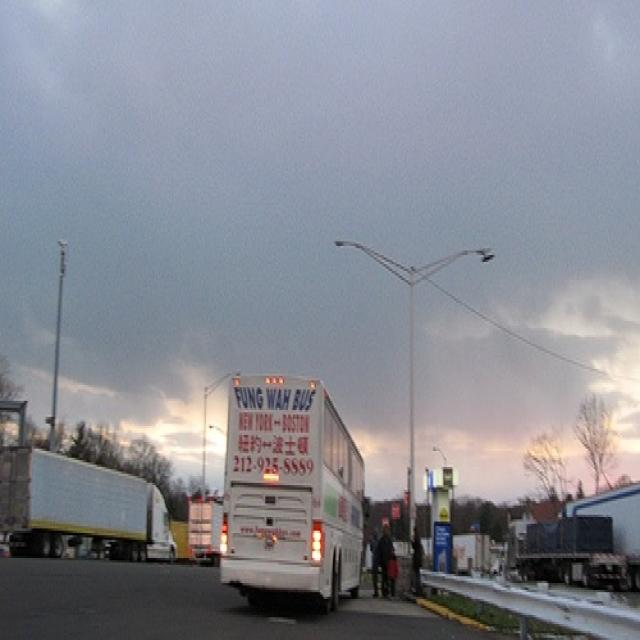bus: (219, 375, 367, 621)
